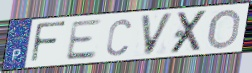C: (104, 17, 133, 57)
E: (63, 18, 102, 62)
F: (29, 20, 68, 65)
O: (206, 8, 243, 51)
V: (140, 11, 176, 57)
X: (168, 9, 210, 55)
